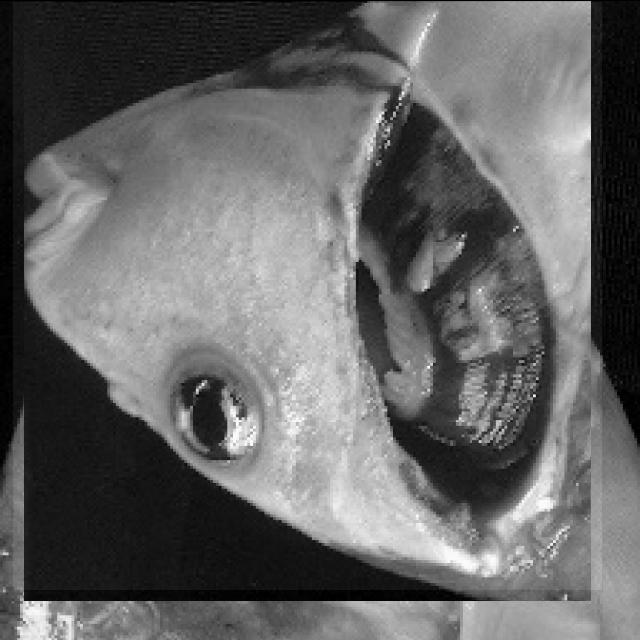Gill Disease: (13, 1, 602, 589)
